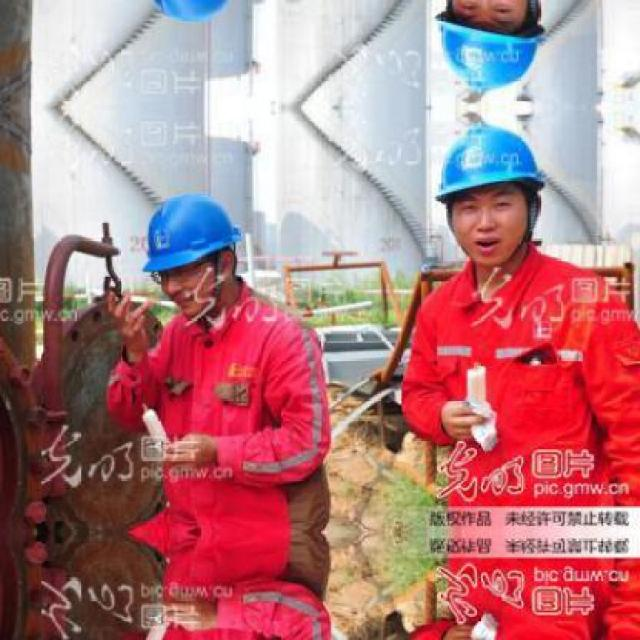helmet: (417, 107, 558, 271), (132, 182, 252, 316), (417, 0, 560, 106), (132, 0, 254, 31)
